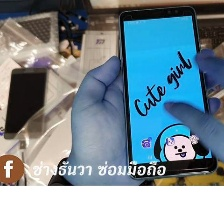phone: (115, 2, 220, 182), (0, 64, 51, 143)
